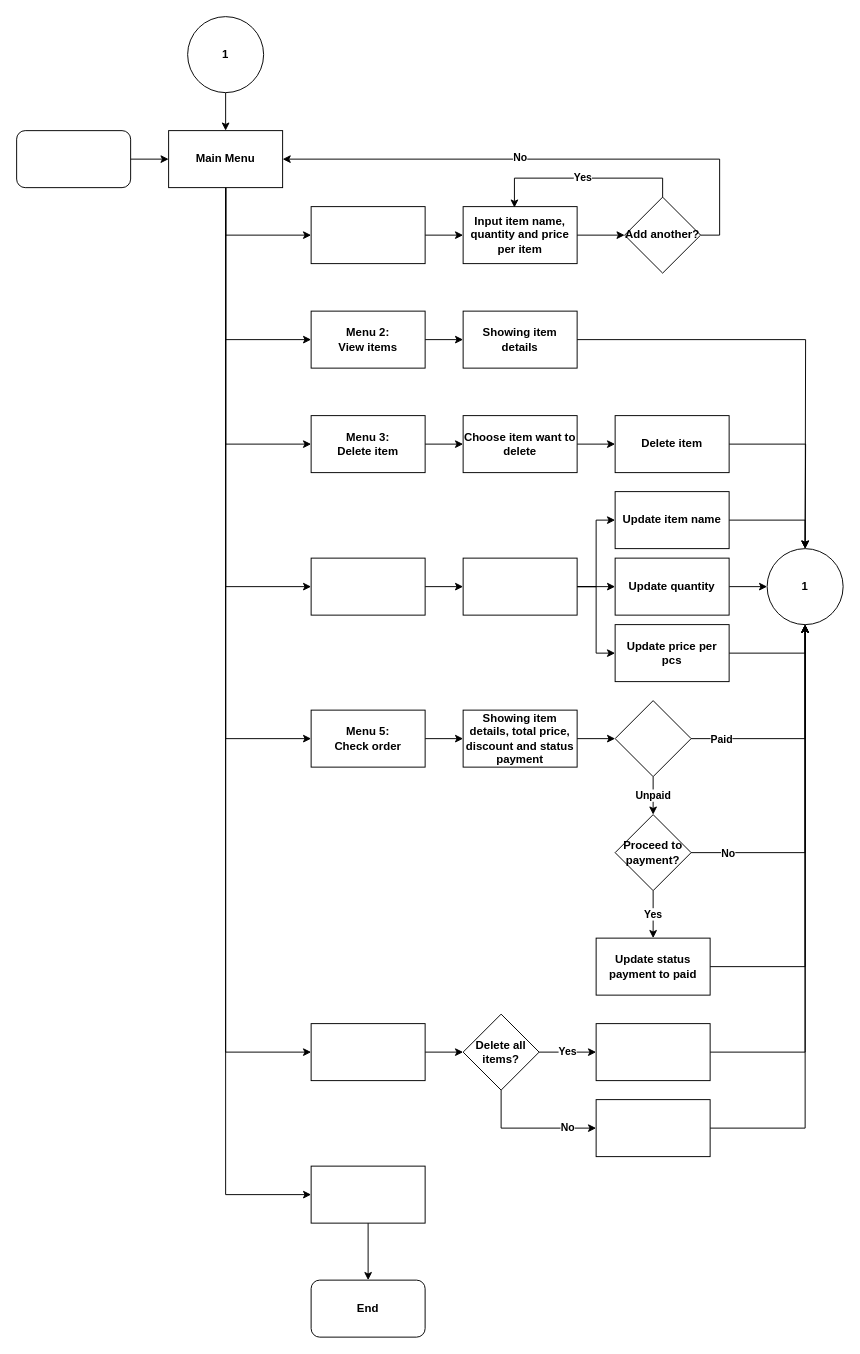
The diagram is 860 pixels wide and 1354 high, and some of its shapes have lost their labels. The centre of each missing label's shape, as x and y in pixels:
"Cancel reset transaction" goes at [652,1128].
"Choose item want to update" goes at [519,586].
"Delete all items" goes at [652,1052].
"Menu 1: Add item" goes at [367,235].
"Menu 4: Update item" goes at [367,586].
"Menu 6: Reset transaction" goes at [367,1052].
"Menu 7: Quit" goes at [367,1194].
"Start" goes at [73,159].
"Status Payment" goes at [652,738].
